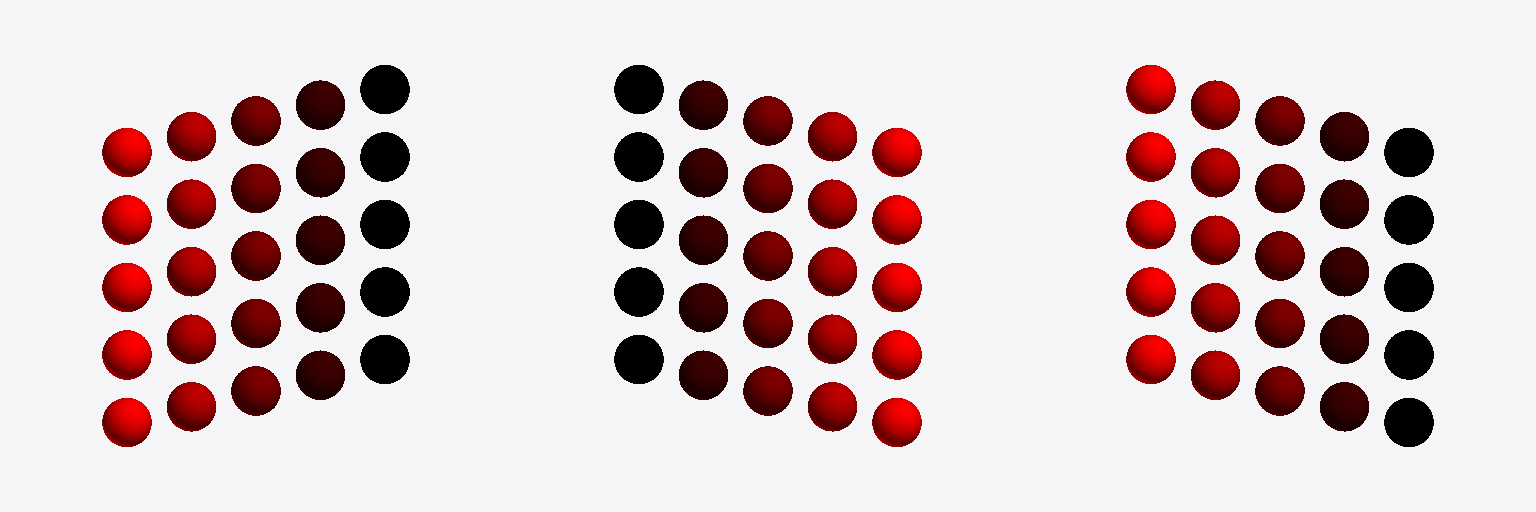
File: geospheres_5x5.obj
3 views of the same model, side by side, from view 1: azimuth 30°, elevation 25°; view 2: azimuth 150°, elevation 25°; view 3: azimuth 330°, elevation 25° (orthographic).
Parts seen in each view (by area): view 1: GeoSphere003, GeoSphere023, GeoSphere006, GeoSphere013, GeoSphere020, GeoSphere005, GeoSphere010, GeoSphere016, GeoSphere021, GeoSphere001, GeoSphere008, GeoSphere011 (+13 smaller); view 2: GeoSphere010, GeoSphere016, GeoSphere001, GeoSphere005, GeoSphere006, GeoSphere008, GeoSphere011, GeoSphere015, GeoSphere018, GeoSphere020, GeoSphere021, GeoSphere025 (+13 smaller); view 3: GeoSphere006, GeoSphere020, GeoSphere001, GeoSphere005, GeoSphere008, GeoSphere010, GeoSphere011, GeoSphere015, GeoSphere016, GeoSphere018, GeoSphere021, GeoSphere025 (+13 smaller).
Part boxes in pixels (left/top/right/bottom): GeoSphere003: left=231, top=366, right=280, bottom=415; GeoSphere023: left=231, top=96, right=280, bottom=145; GeoSphere006: left=102, top=330, right=151, bottom=379; GeoSphere013: left=231, top=231, right=280, bottom=280; GeoSphere020: left=360, top=132, right=409, bottom=181; GeoSphere005: left=360, top=335, right=409, bottom=383; GeoSphere010: left=360, top=267, right=409, bottom=316; GeoSphere016: left=102, top=195, right=151, bottom=244; GeoSphere021: left=102, top=128, right=151, bottom=176; GeoSphere001: left=102, top=398, right=151, bottom=446; GeoSphere008: left=231, top=299, right=280, bottom=347; GeoSphere011: left=102, top=263, right=151, bottom=311; GeoSphere010: left=614, top=267, right=663, bottom=316; GeoSphere016: left=872, top=195, right=921, bottom=244; GeoSphere001: left=872, top=398, right=921, bottom=446; GeoSphere005: left=614, top=335, right=663, bottom=383; GeoSphere006: left=872, top=330, right=921, bottom=379; GeoSphere008: left=743, top=299, right=792, bottom=347; GeoSphere011: left=872, top=263, right=921, bottom=311; GeoSphere015: left=614, top=200, right=663, bottom=248; GeoSphere018: left=743, top=164, right=792, bottom=212; GeoSphere020: left=614, top=132, right=663, bottom=181; GeoSphere021: left=872, top=128, right=921, bottom=176; GeoSphere025: left=614, top=65, right=663, bottom=113; GeoSphere006: left=1126, top=267, right=1175, bottom=316; GeoSphere020: left=1384, top=195, right=1433, bottom=244; GeoSphere001: left=1126, top=335, right=1175, bottom=383; GeoSphere005: left=1384, top=398, right=1433, bottom=446; GeoSphere008: left=1255, top=299, right=1304, bottom=347; GeoSphere010: left=1384, top=330, right=1433, bottom=379; GeoSphere011: left=1126, top=200, right=1175, bottom=248; GeoSphere015: left=1384, top=263, right=1433, bottom=311; GeoSphere016: left=1126, top=132, right=1175, bottom=181; GeoSphere018: left=1255, top=164, right=1304, bottom=212; GeoSphere021: left=1126, top=65, right=1175, bottom=113; GeoSphere025: left=1384, top=128, right=1433, bottom=176.
Size of the model in its own units: 14 by 14 by 2.